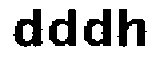d: (10, 4, 44, 50), (46, 5, 79, 52), (84, 6, 113, 50)
h: (116, 4, 151, 54)
